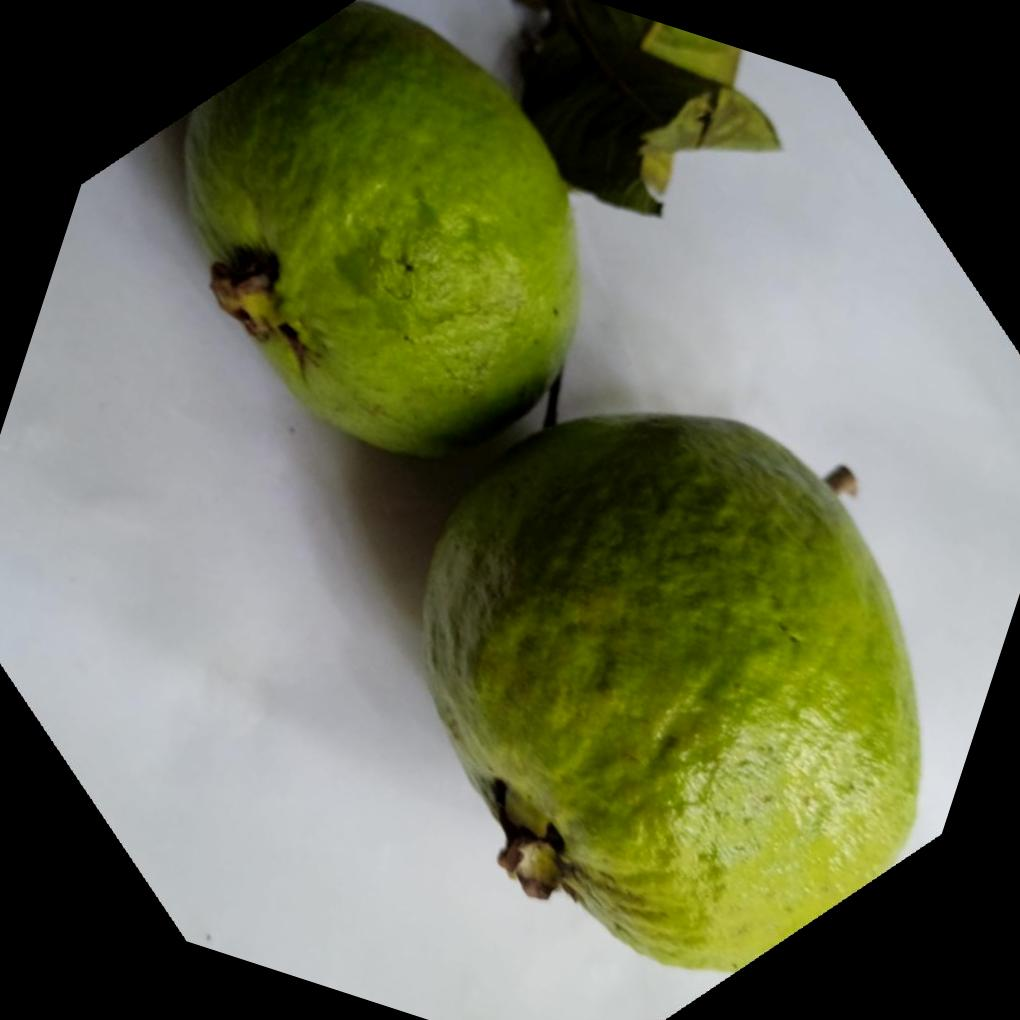FreshGuava: (413, 408, 922, 974), (178, 0, 578, 459)
